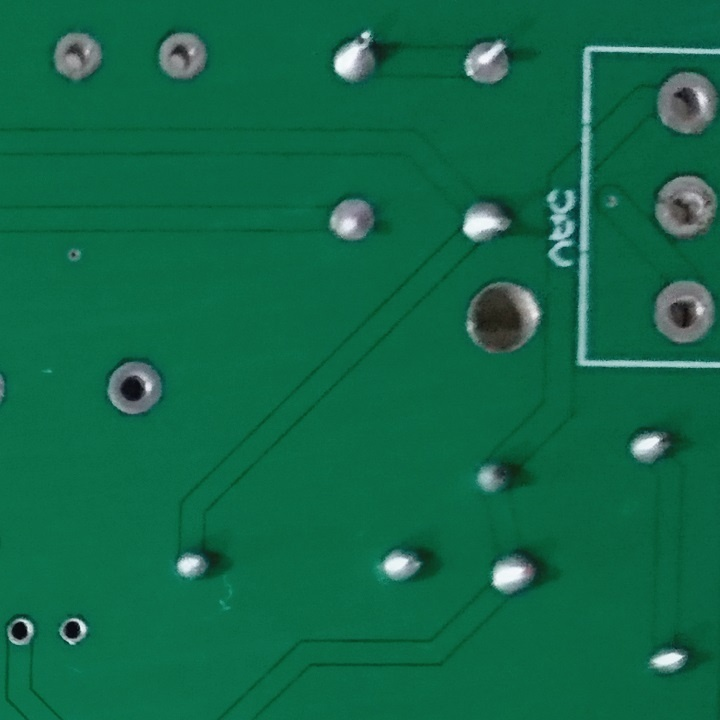F: (655, 68, 720, 139), (651, 277, 716, 347), (653, 173, 720, 237), (101, 356, 168, 418), (47, 29, 106, 86), (155, 29, 213, 81), (324, 192, 379, 245), (464, 35, 517, 88), (6, 613, 38, 650), (58, 615, 90, 646)
